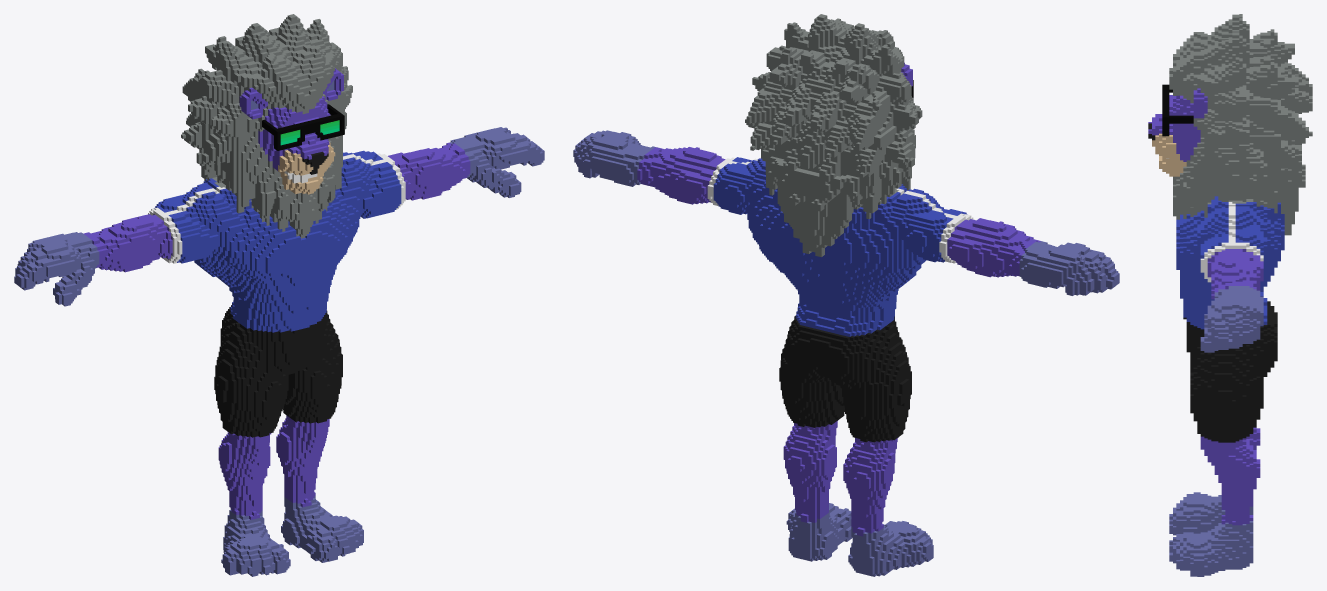
File: 749-DhFMTjGP.glb
3 views of the same model, side by side, from view 1: azimuth 30°, elevation 25°; view 2: azimuth 150°, elevation 25°; view 3: azimuth 270°, elevation 25° (orthographic). The views are drawn at different scales.
Parts seen in each view (by area): view 1: grin; view 2: grin; view 3: grin.
Boxes of the visible parts, bbox=[...] form: grin: bbox=[14, 14, 544, 576]; grin: bbox=[573, 14, 1119, 576]; grin: bbox=[1148, 14, 1312, 576].
Bounding box in the file's own units: 17.2 × 16.5 × 4.7.
5 materials, 5 textured.
